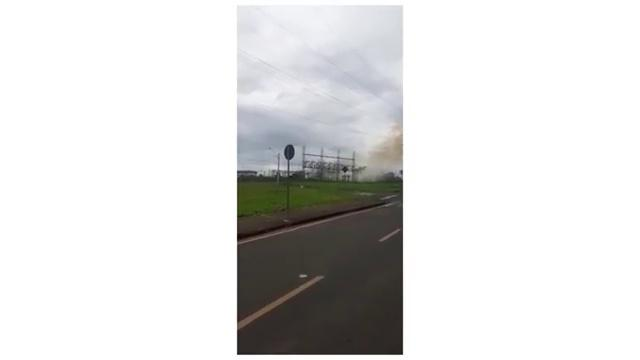Smoke: (345, 131, 404, 181)
